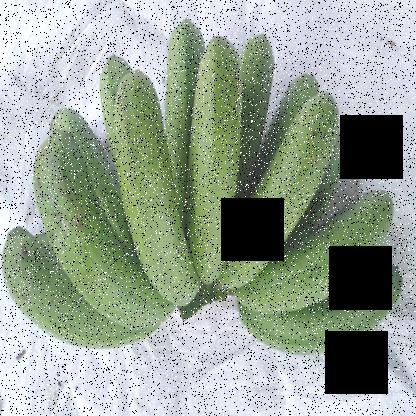freshunripe: (223, 88, 345, 280), (254, 170, 408, 314), (236, 254, 408, 358)
unripe: (36, 113, 189, 331), (112, 47, 216, 288), (1, 224, 134, 381), (188, 21, 245, 284), (158, 8, 212, 196), (230, 32, 275, 224)
